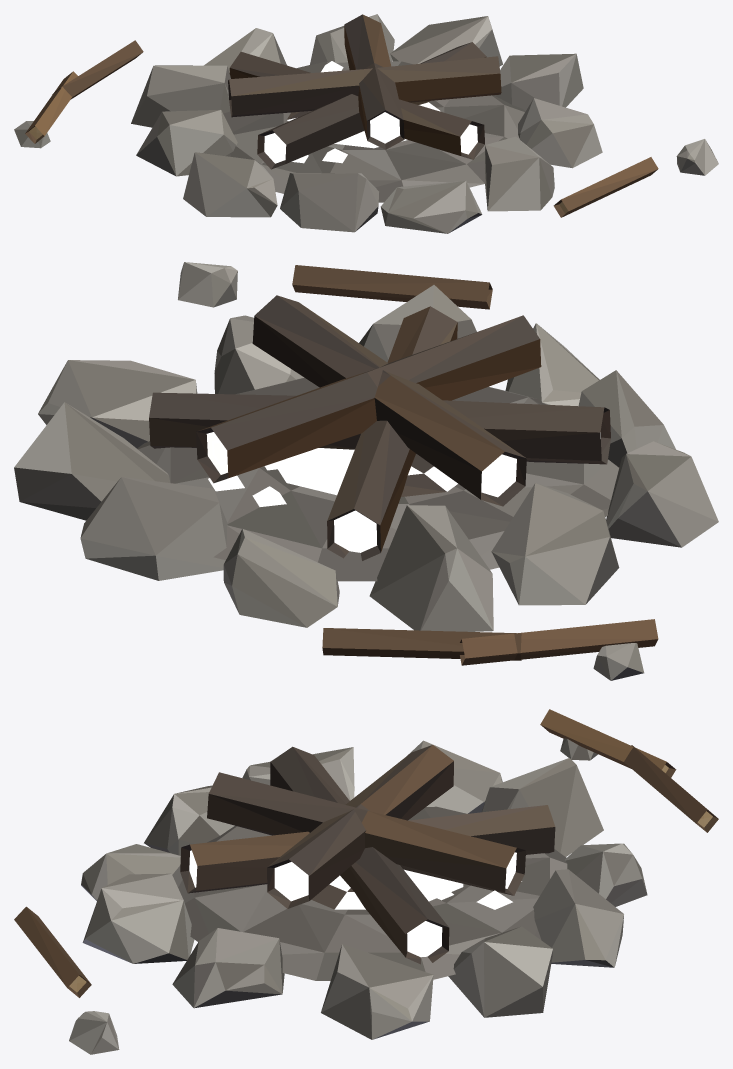
The model's file is camp-firepit.glb.
The picture shows the model from 3 angles, top to bottom: view 1: azimuth 30°, elevation 25°; view 2: azimuth 150°, elevation 25°; view 3: azimuth 270°, elevation 25°; orthographic projection. The views are drawn at different scales.
Parts seen in each view (by area): view 1: camp-firepit; view 2: camp-firepit; view 3: camp-firepit.
Part boxes in pixels (left/top/right/bottom): camp-firepit: left=14, top=14, right=718, bottom=233; camp-firepit: left=14, top=262, right=718, bottom=680; camp-firepit: left=14, top=709, right=718, bottom=1054.
Bounding box in the file's own units: 1.13 × 0.1818 × 1.07.
